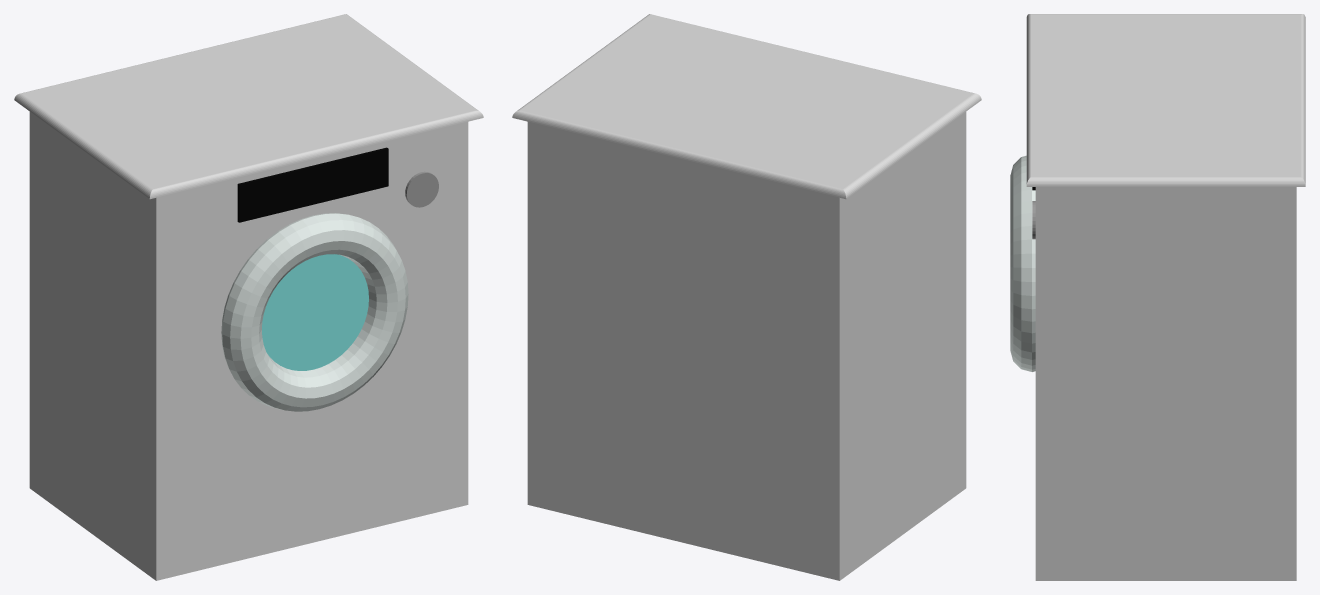
The model's file is washingmachine2.fbx.
3 views of the same model, side by side, from view 1: azimuth 30°, elevation 25°; view 2: azimuth 150°, elevation 25°; view 3: azimuth 270°, elevation 25° (orthographic). The views are drawn at different scales.
Visible parts, largest first — view 1: Wmachine, Wmachine.001, Door, Display, Button; view 2: Wmachine, Wmachine.001; view 3: Wmachine, Wmachine.001, Door.
Part boxes in pixels (x1,y1,x2,y2): Wmachine: (29,112,468,580); Wmachine.001: (14,14,483,199); Door: (221,213,408,411); Display: (237,147,388,222); Button: (405,171,438,207); Wmachine: (527,112,966,580); Wmachine.001: (512,14,981,199); Wmachine: (1035,187,1296,580); Wmachine.001: (1026,14,1305,186); Door: (1010,155,1035,371).
Size of the model in its own units: 274 by 309 by 204.
